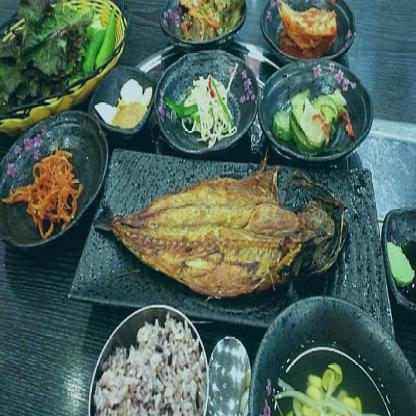Peixe: (94, 176, 355, 310)
